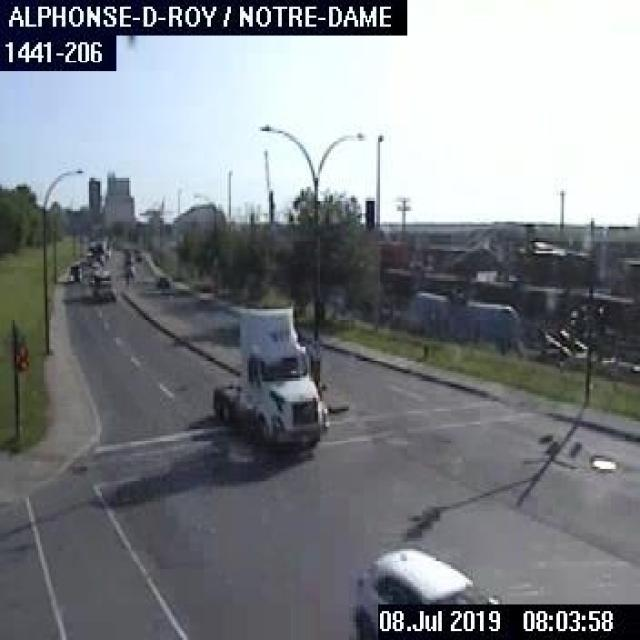vehicle: (213, 303, 329, 449), (348, 544, 496, 638), (89, 267, 115, 302), (66, 263, 81, 280), (155, 274, 169, 289)
